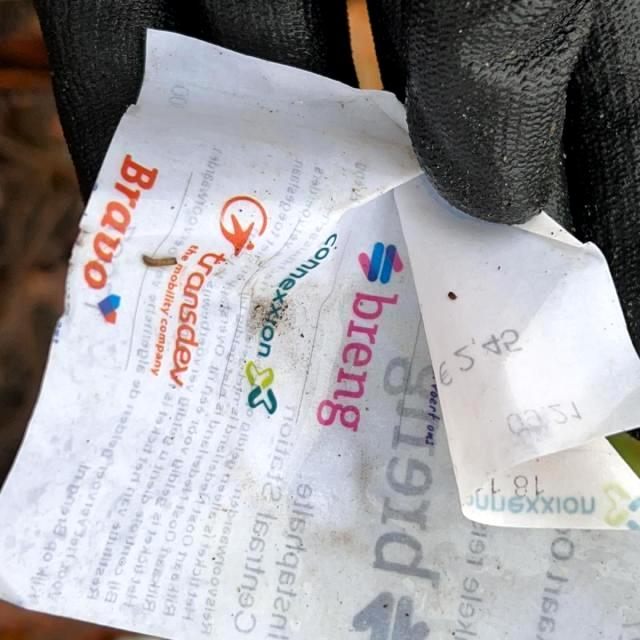Paper: (5, 29, 640, 638)
